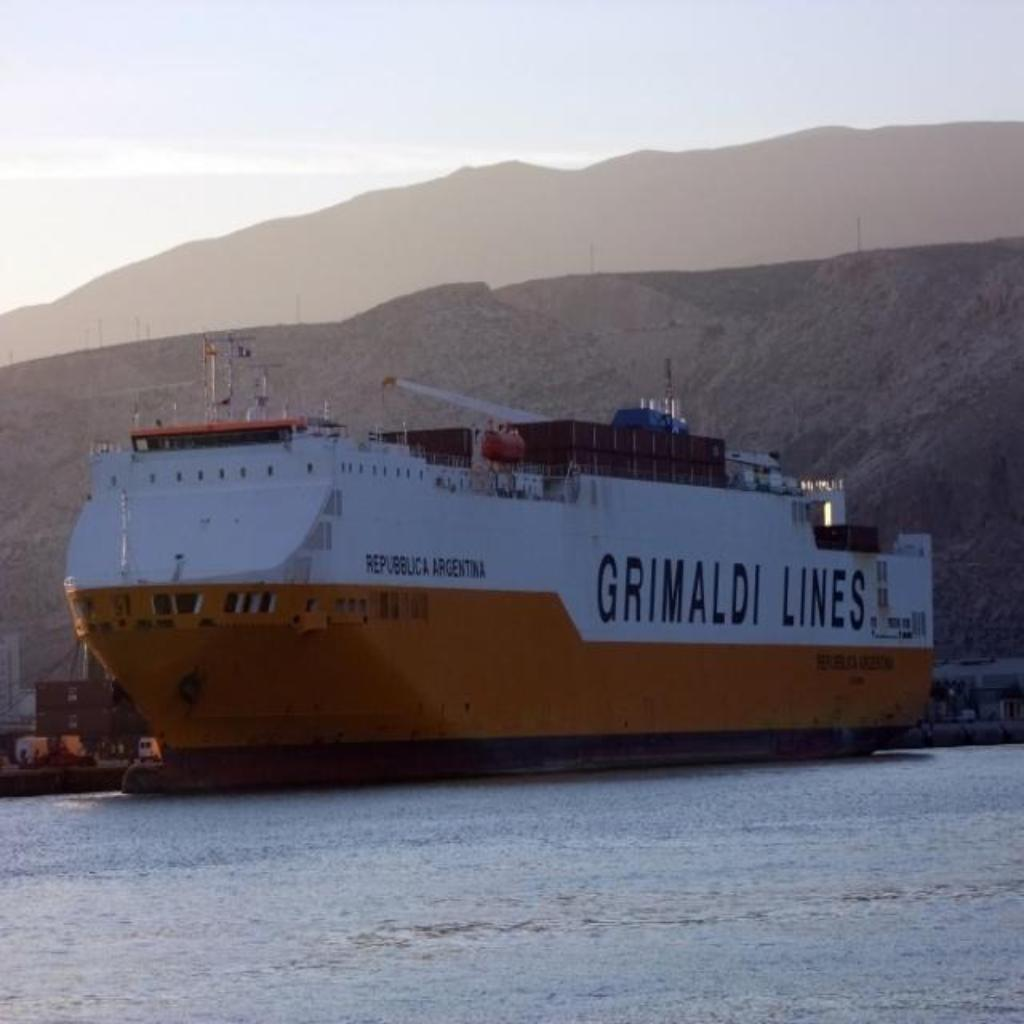PassengerShip: (60, 338, 936, 796)
